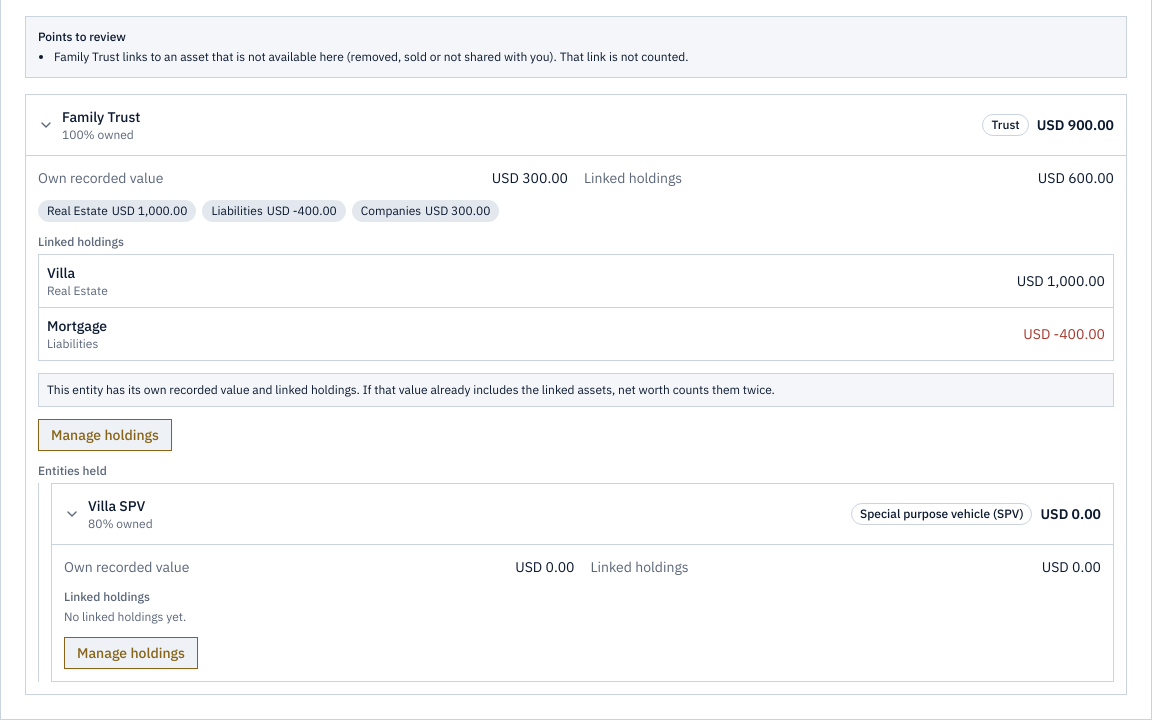
Test: ManageHoldingsDialog › lists non-Company assets, pre-checks current ones, shows who already holds an asset and filters by search
(page scrolled)
Click the button with aria-label "Manage holdings of Villa SPV".
click(131, 653)  # box [64,637,198,669]
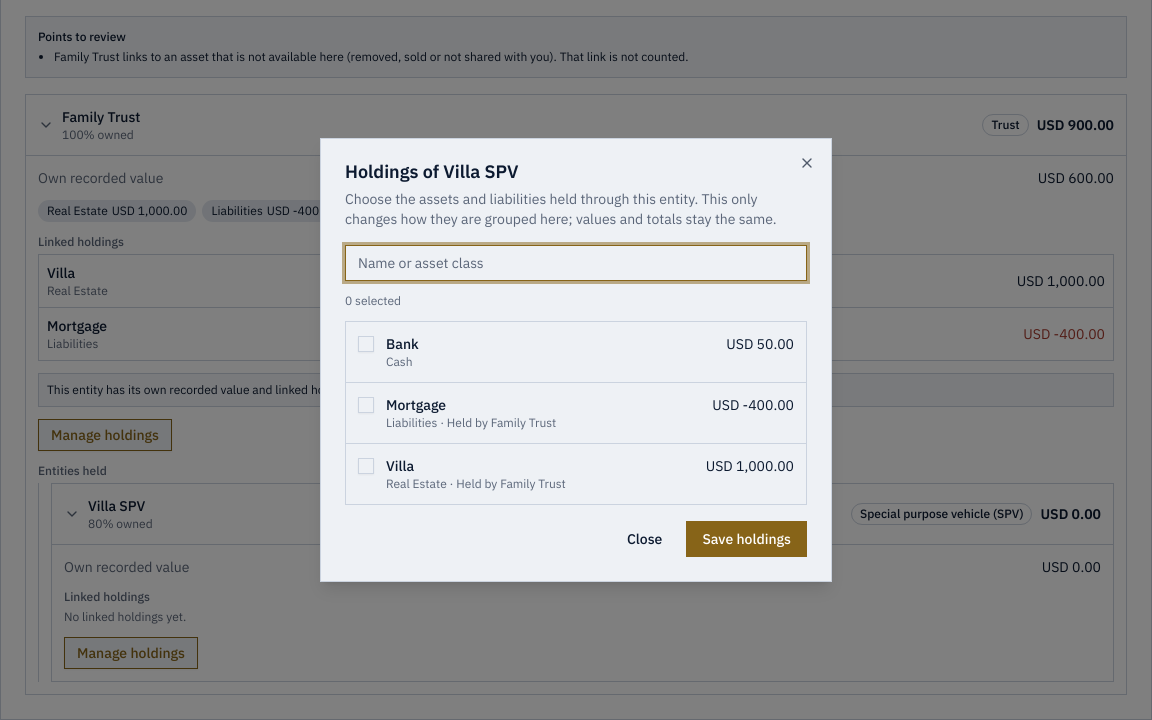
Now the number of checkboxes is 3, box [358,336,374,352]; [358,397,374,413]; [358,458,374,474]
Now the 3rd checkbox named "Villa" is not checked, box [358,458,374,474]
Now the text "Liabilities · Held by Family Trust" is shown 2 times, box [386,415,556,430]; [386,476,566,491]
Type "cash" into the search field named "Search assets".
click(576, 263); type("cash")  # box [345,245,807,281]
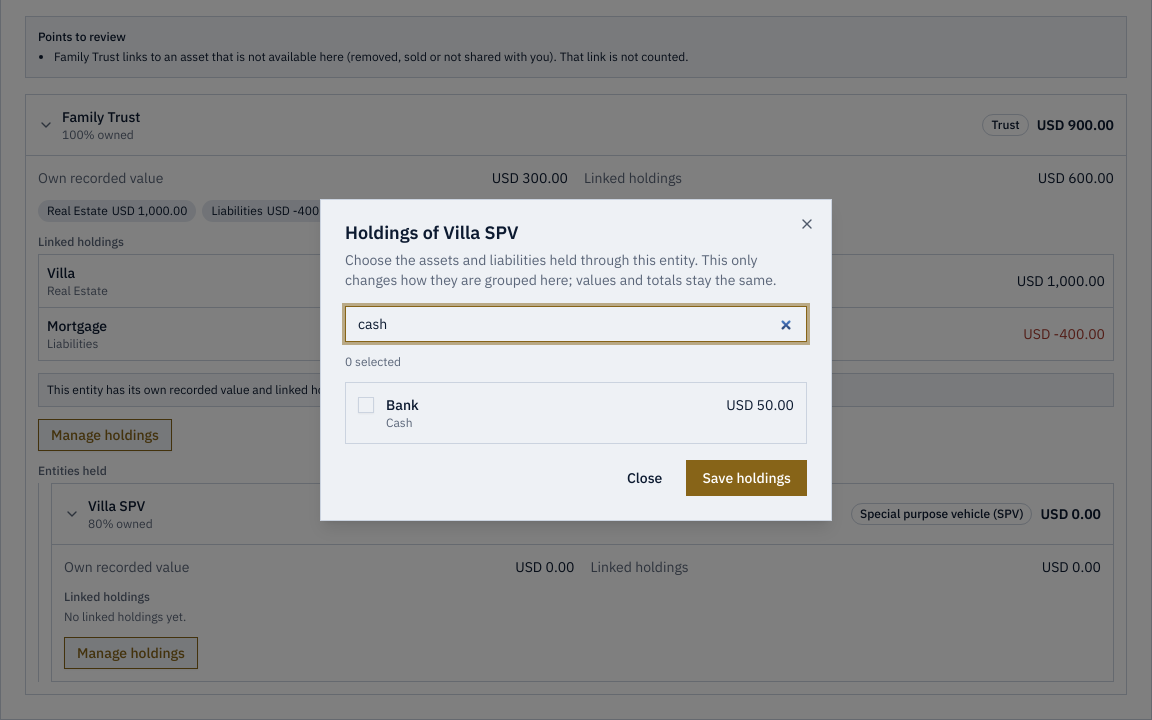
Now the number of checkboxes is 1, box [358,397,374,413]
Clear the search field at {"x": 576, "y": 324}, box [345,306,807,342]
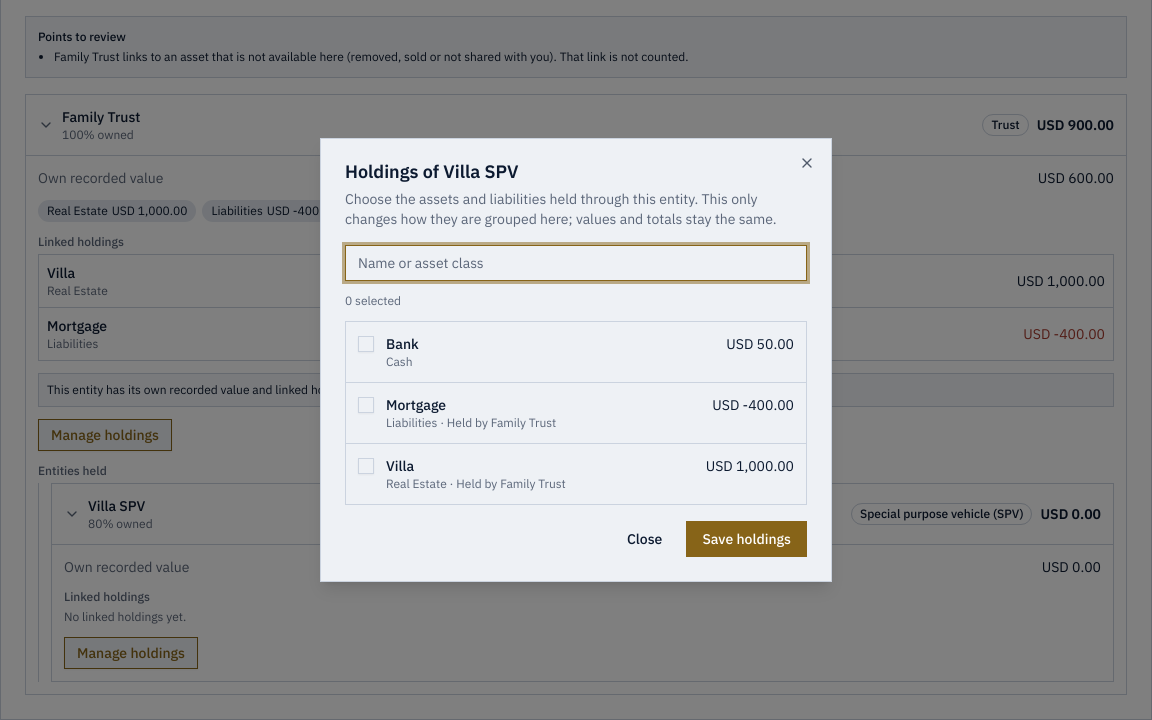
Type "zzz" into the search field.
click(576, 263); type("zzz")  # box [345,245,807,281]
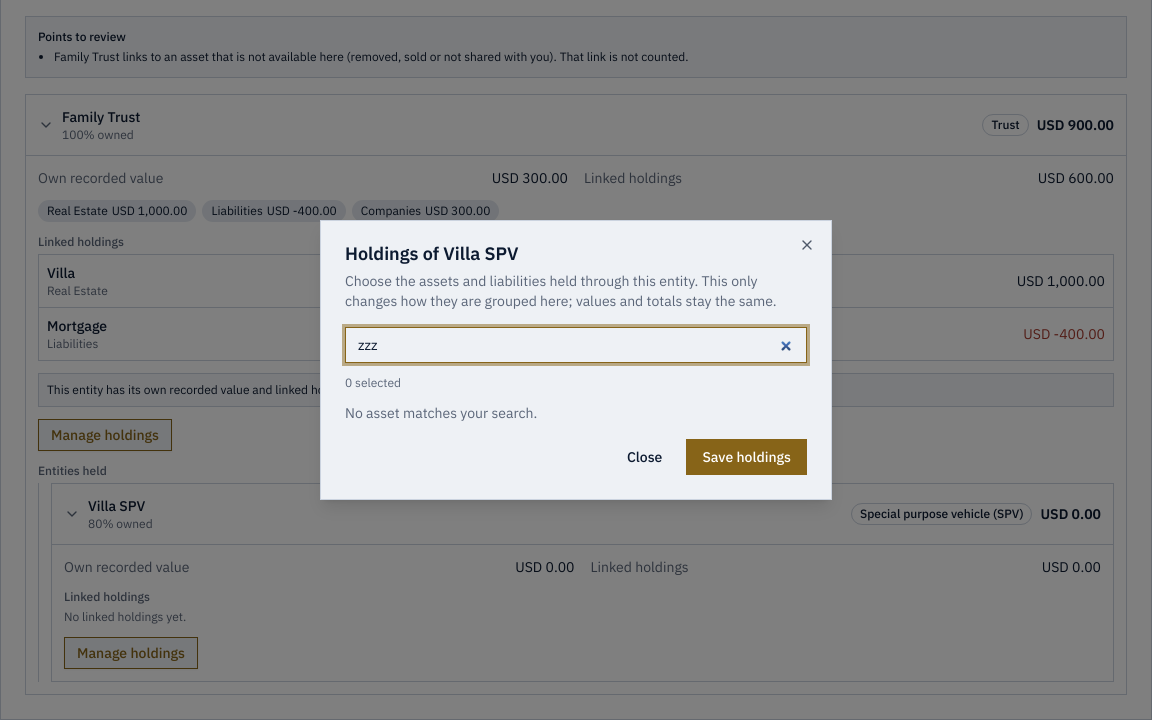
Now the text "No asset matches your search." is shown, box [345,404,537,422]
